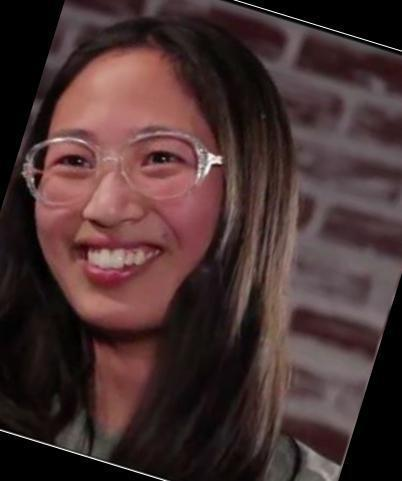Drunk: (49, 63, 211, 320)
